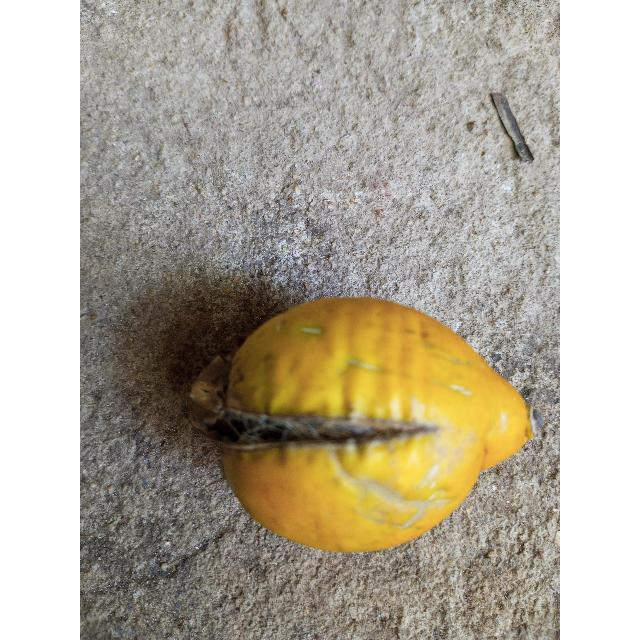damaged: (190, 297, 534, 555)
